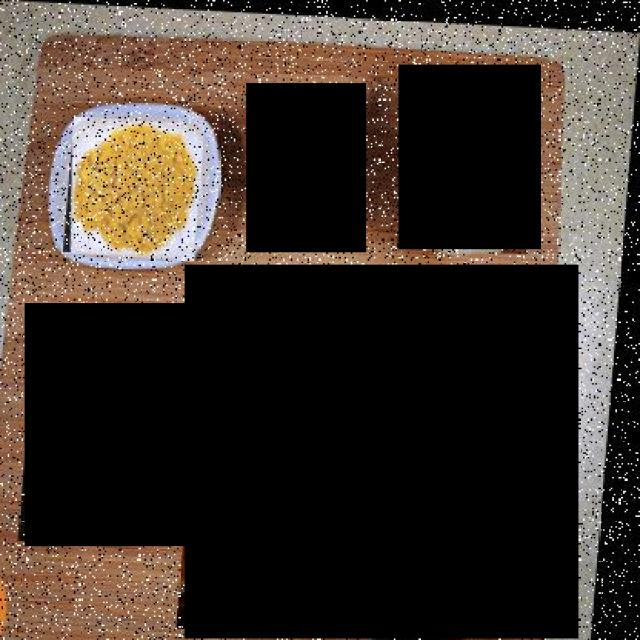Bread: (184, 264, 578, 638)
Butter: (246, 83, 366, 252)
Egg: (26, 304, 194, 547)
Onion: (399, 65, 541, 250)
